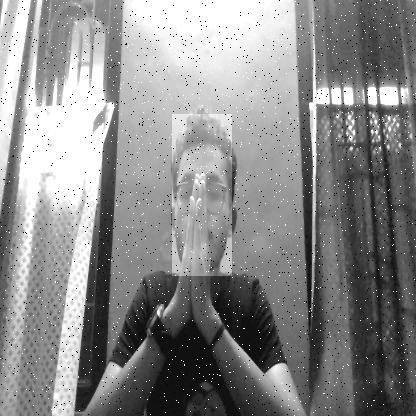Normal: (172, 114, 232, 276)
